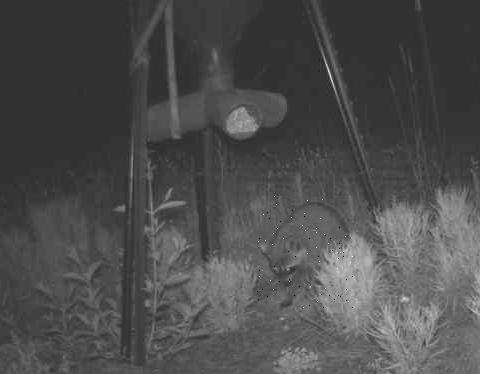Raccoon: (257, 197, 354, 310)
